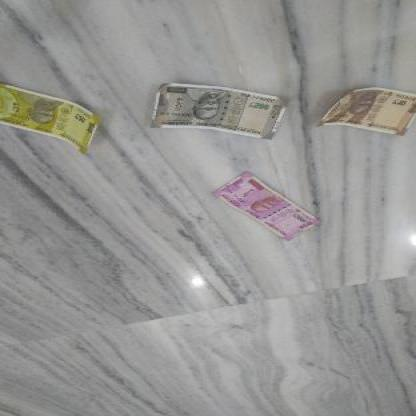New10Front: (318, 88, 414, 136)
New2000Front: (208, 174, 321, 243)
New20Front: (0, 81, 99, 153)
New500Front: (148, 86, 288, 141)
